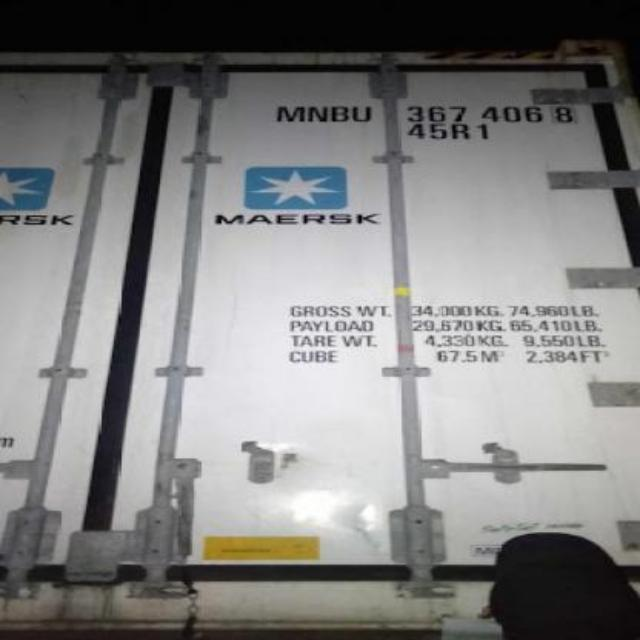0: (501, 105, 522, 123)
3: (404, 105, 426, 121)
4: (480, 103, 500, 121)
6: (424, 105, 450, 125), (522, 104, 544, 124)
7: (450, 105, 468, 123)
8: (554, 107, 574, 123)
B: (330, 106, 350, 122)
M: (274, 105, 306, 123)
N: (308, 106, 330, 122)
U: (350, 104, 376, 122)
